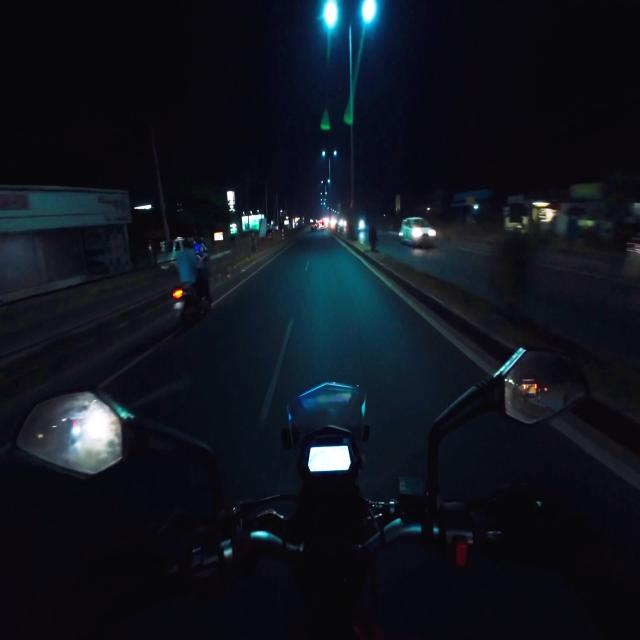car: (399, 217, 435, 246)
motorcycle: (16, 350, 587, 639), (168, 227, 216, 334)
